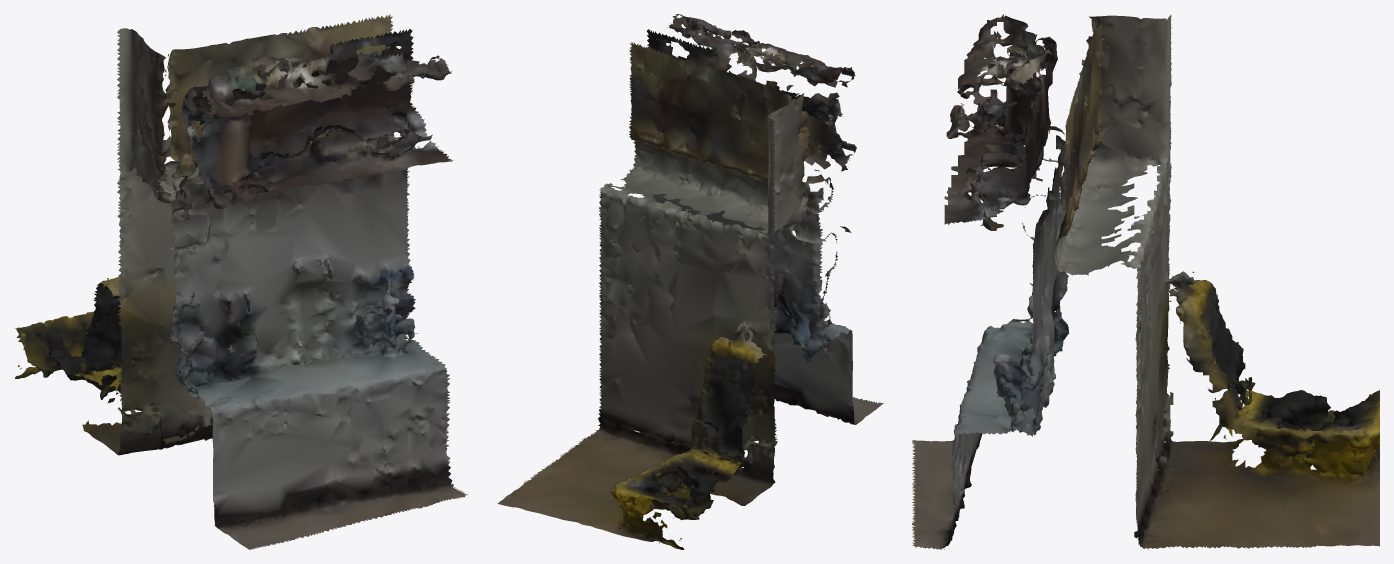
Rendered from medium.glb.
The picture shows the model from 3 angles, left to right: view 1: azimuth 30°, elevation 25°; view 2: azimuth 150°, elevation 25°; view 3: azimuth 270°, elevation 25°; orthographic projection. The views are drawn at different scales.
Size of the model in its own units: 0.6999 by 1.29 by 1.27.
